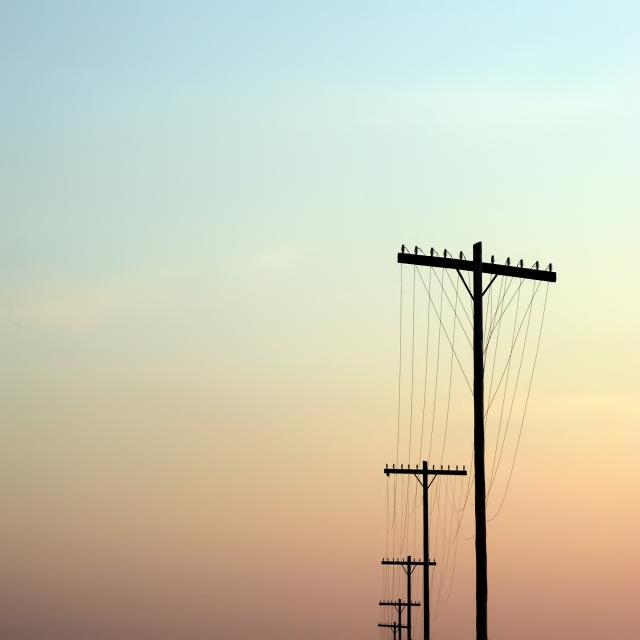pole: (465, 294, 492, 640), (419, 478, 432, 637), (402, 564, 416, 637)
